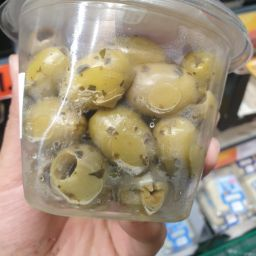Olives: (92, 103, 198, 221), (34, 89, 130, 216), (115, 23, 214, 135), (24, 31, 129, 119)
